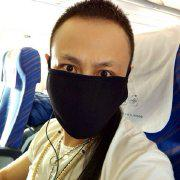OK: (46, 52, 128, 134)
